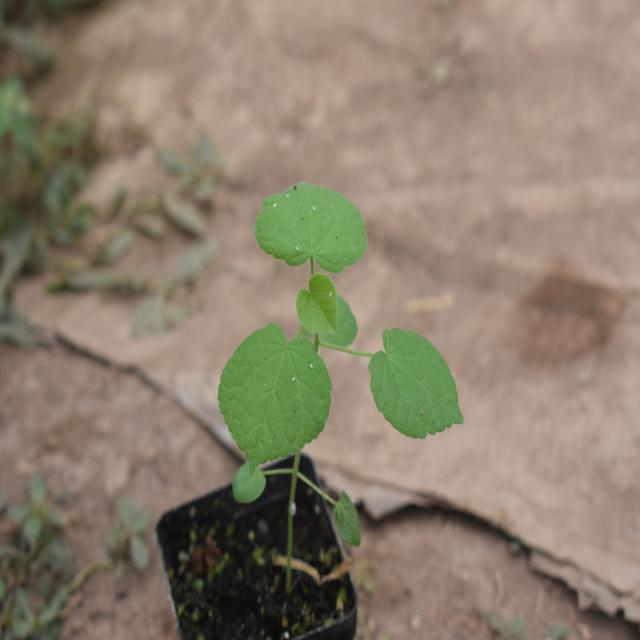abutilon theophrasti: (193, 157, 464, 499)
